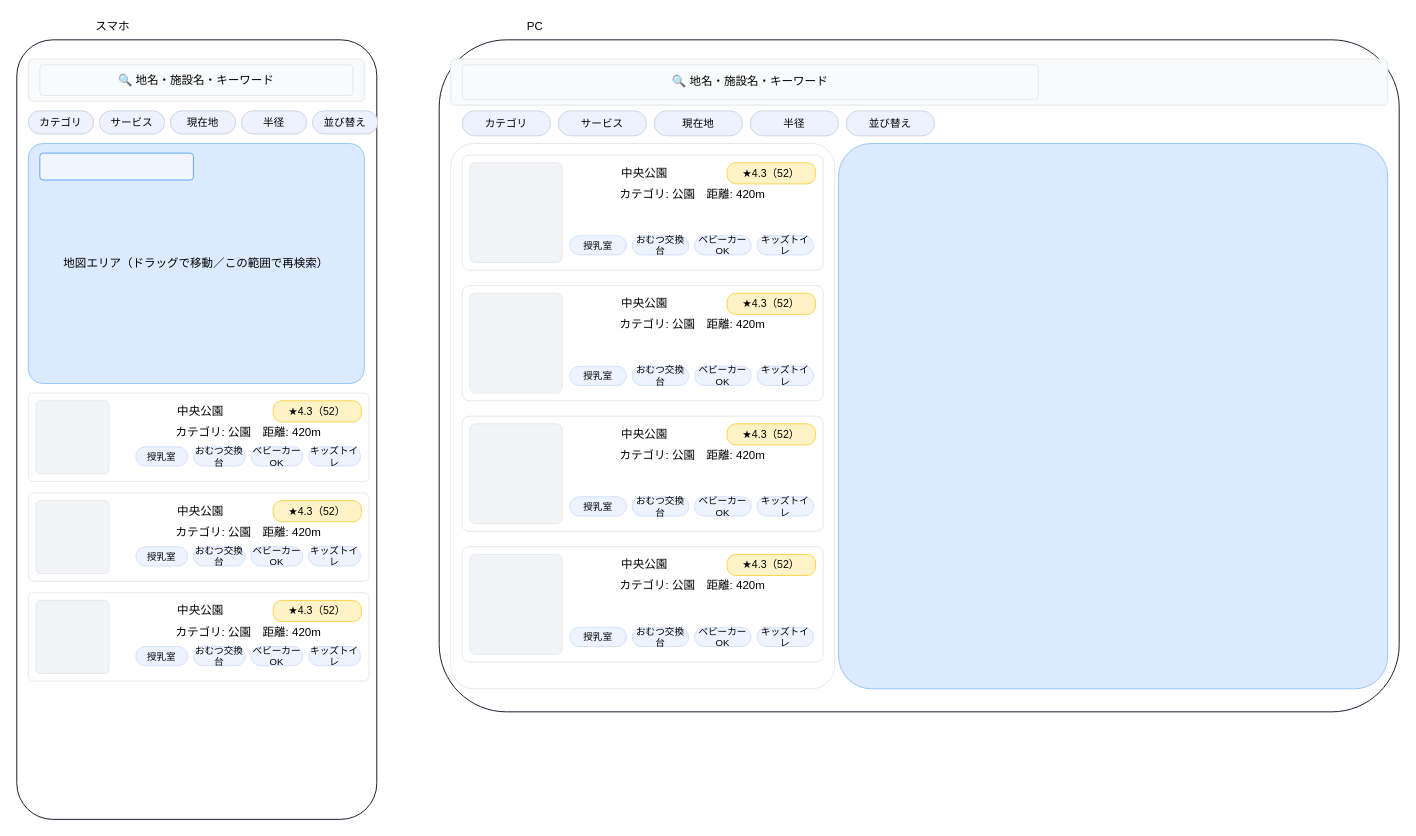
Image size: 1416x836. Some labels were removed from this diagram. The centre of each missing label's shape, as x and y in pixels:
この範囲で再検索: [116,166]
地図エリア: [1113,416]
